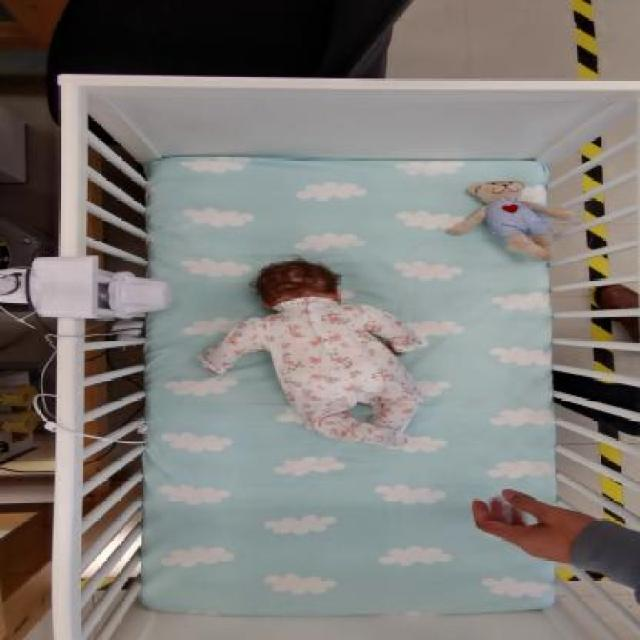baby: (203, 256, 428, 454)
